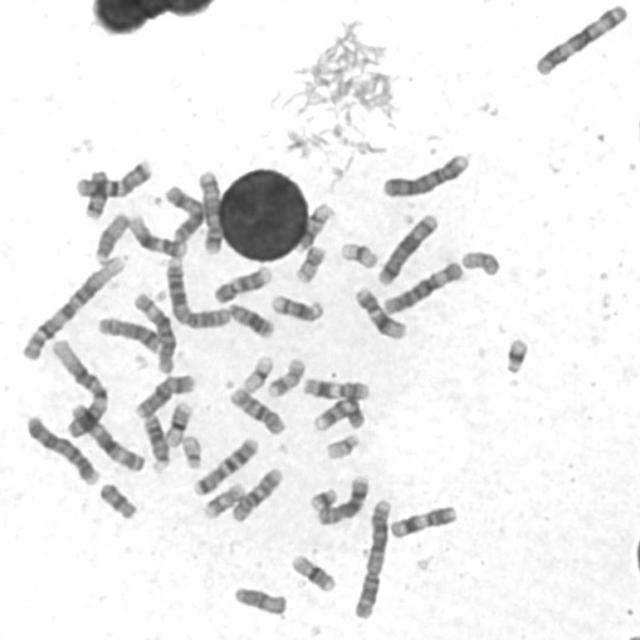A1: (17, 251, 128, 362), (48, 334, 112, 440)
A2: (350, 494, 394, 620), (162, 254, 233, 330)
A3: (530, 0, 631, 77), (66, 398, 147, 473)
B4: (22, 411, 101, 486), (378, 148, 472, 200)
B5: (374, 209, 441, 287), (194, 167, 225, 256)
C10: (228, 463, 286, 525), (226, 383, 288, 437)
C11: (386, 500, 460, 541), (299, 374, 372, 402)
C12: (351, 284, 409, 341), (126, 211, 190, 259)
C6: (378, 256, 466, 316), (130, 288, 178, 375)
C7: (188, 433, 262, 497), (72, 155, 154, 200)
C8: (313, 472, 371, 528), (94, 312, 163, 354)
C9: (211, 262, 274, 304), (310, 394, 368, 434)
D13: (225, 299, 276, 340), (139, 411, 172, 473)
D14: (294, 201, 334, 250), (268, 291, 326, 324)
D15: (91, 208, 131, 266), (230, 583, 289, 617)
E16: (286, 550, 338, 594), (161, 397, 195, 448)
E17: (199, 478, 247, 521), (263, 354, 307, 399)
E18: (95, 478, 138, 522), (80, 165, 110, 221)
F19: (237, 352, 275, 394), (337, 238, 380, 270)
F20: (291, 242, 328, 284), (458, 245, 503, 278)
G21: (501, 333, 531, 375), (306, 483, 340, 513)
G22: (322, 430, 362, 461), (178, 431, 204, 470)
X: (131, 370, 198, 420), (161, 181, 207, 245)
